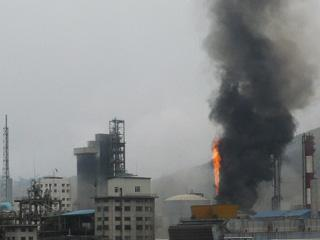fire: (203, 136, 224, 198)
smoke: (225, 13, 309, 189)
